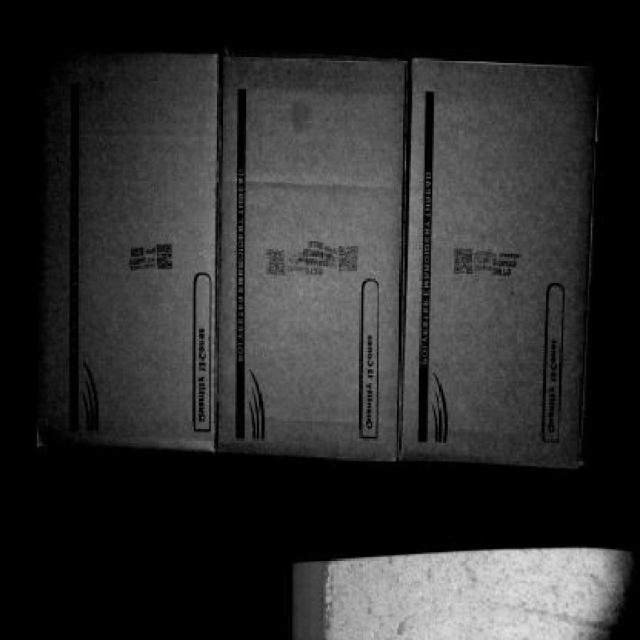cardboxes: (400, 68, 602, 458), (214, 60, 401, 457), (38, 56, 211, 447)
